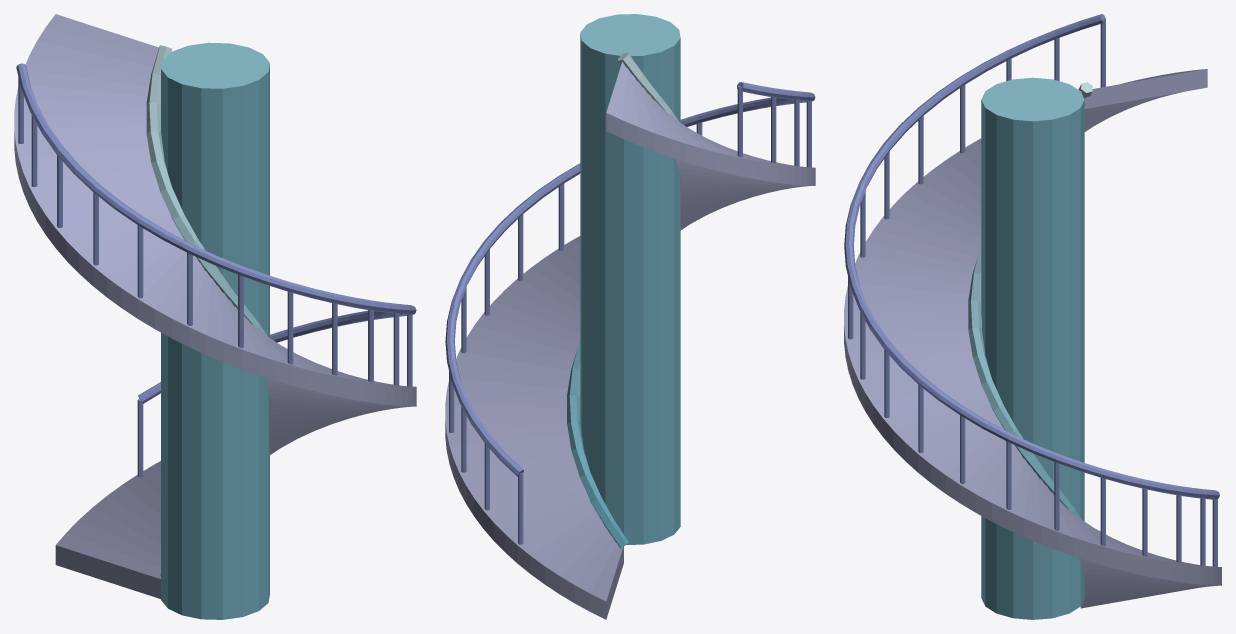
File: goo_jar_stair@crystal.fbx
3 views of the same model, side by side, from view 1: azimuth 30°, elevation 25°; view 2: azimuth 150°, elevation 25°; view 3: azimuth 270°, elevation 25° (orthographic). The views are drawn at different scales.
Parts seen in each view (by area): view 1: goo_jar_stair; view 2: goo_jar_stair; view 3: goo_jar_stair.
Boxes of the visible parts, bbox=[...] form: goo_jar_stair: bbox=[14, 14, 416, 619]; goo_jar_stair: bbox=[445, 14, 815, 619]; goo_jar_stair: bbox=[844, 14, 1221, 619].
Bounding box in the file's own units: 10.99 × 17.03 × 10.99.
